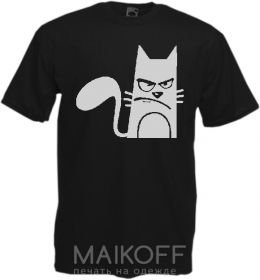cat: (71, 40, 189, 145)
